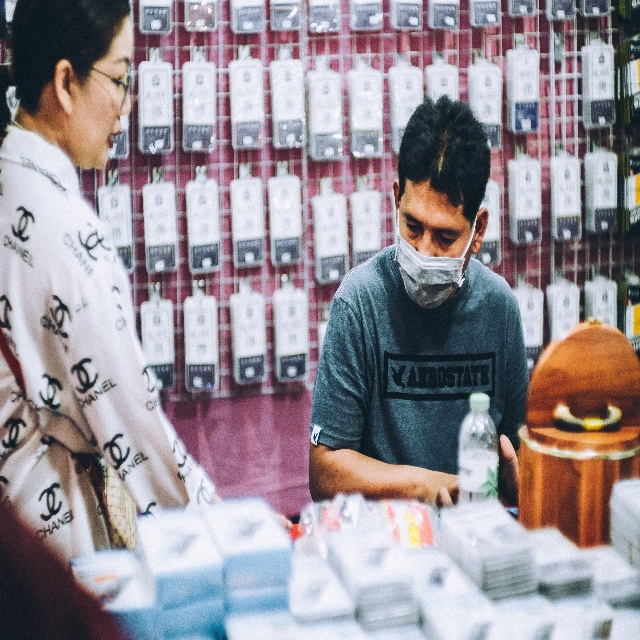Gafas: (83, 60, 133, 92)
Mascara: (394, 197, 481, 309)
